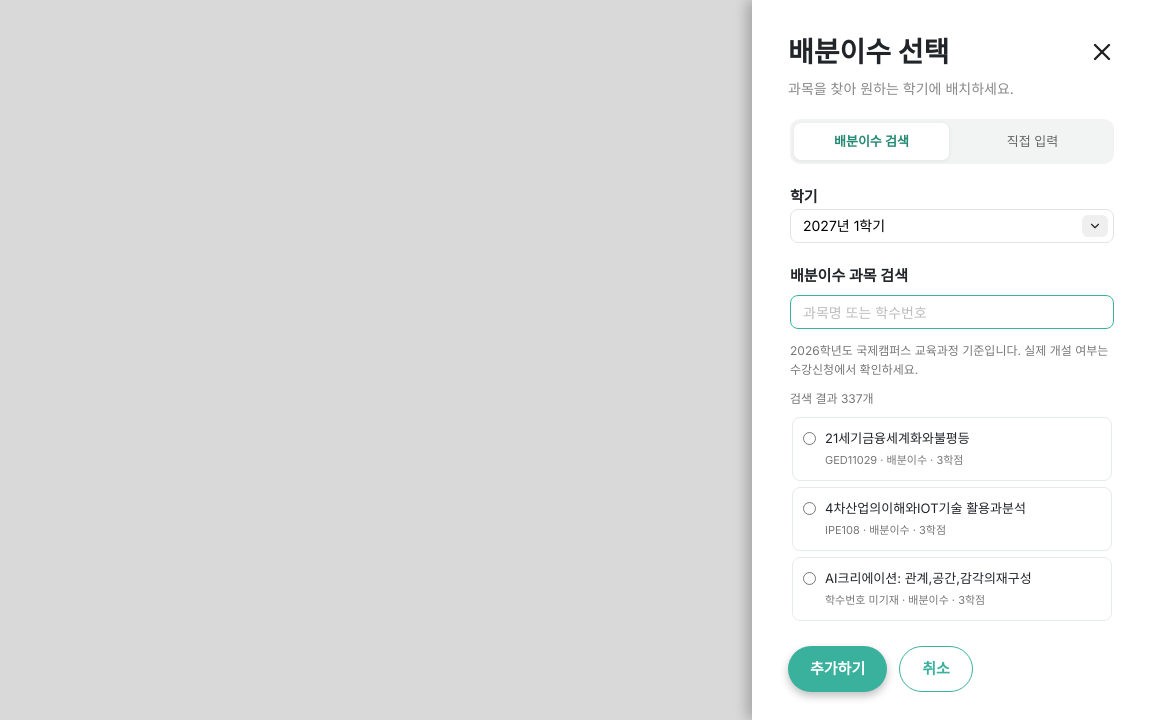
Test: 소문자 학수번호 검색과 검색어 변경 후 선택 해제를 지원한다
Type "ged1416" into the search field at (952, 312), box [790, 295, 1114, 329]
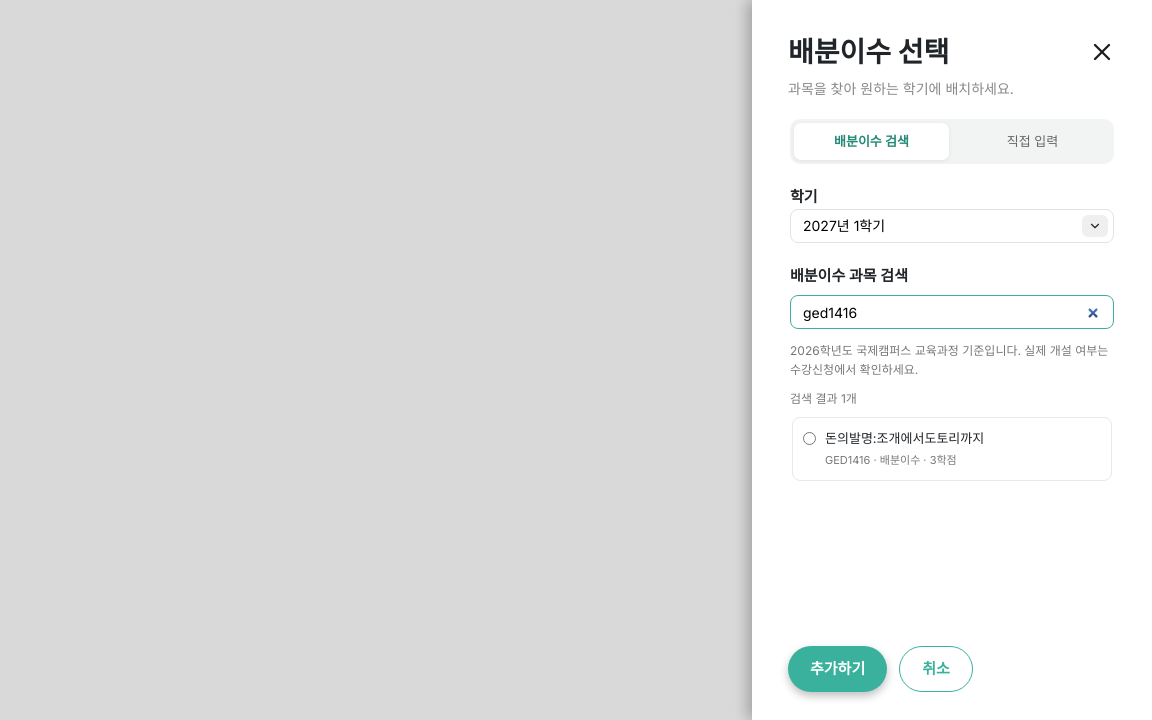
Click the radio button labelled "돈의발명:조개에서도토리까지 GED1416 · 배분이수 · 3학점" at (810, 438), box [803, 432, 816, 445]
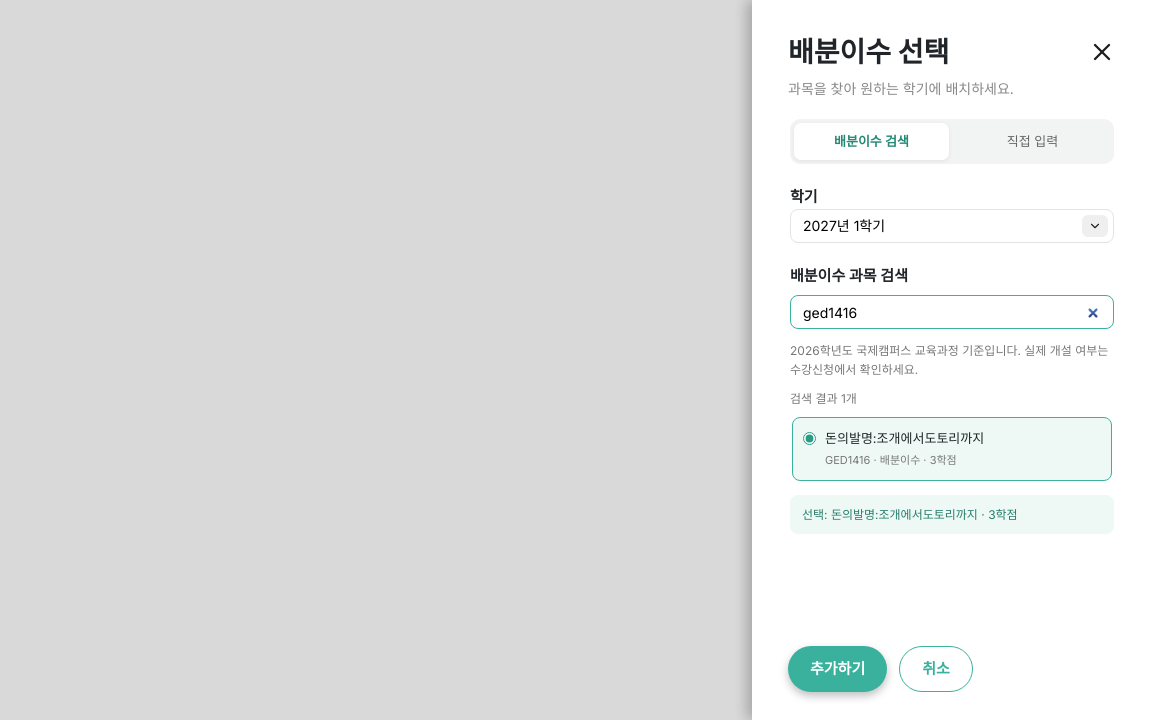
Expected: the button "추가하기" is enabled, [788, 646, 887, 692]
Replace the text in the search field with "없는과목이름" at (952, 312), box [790, 295, 1114, 329]
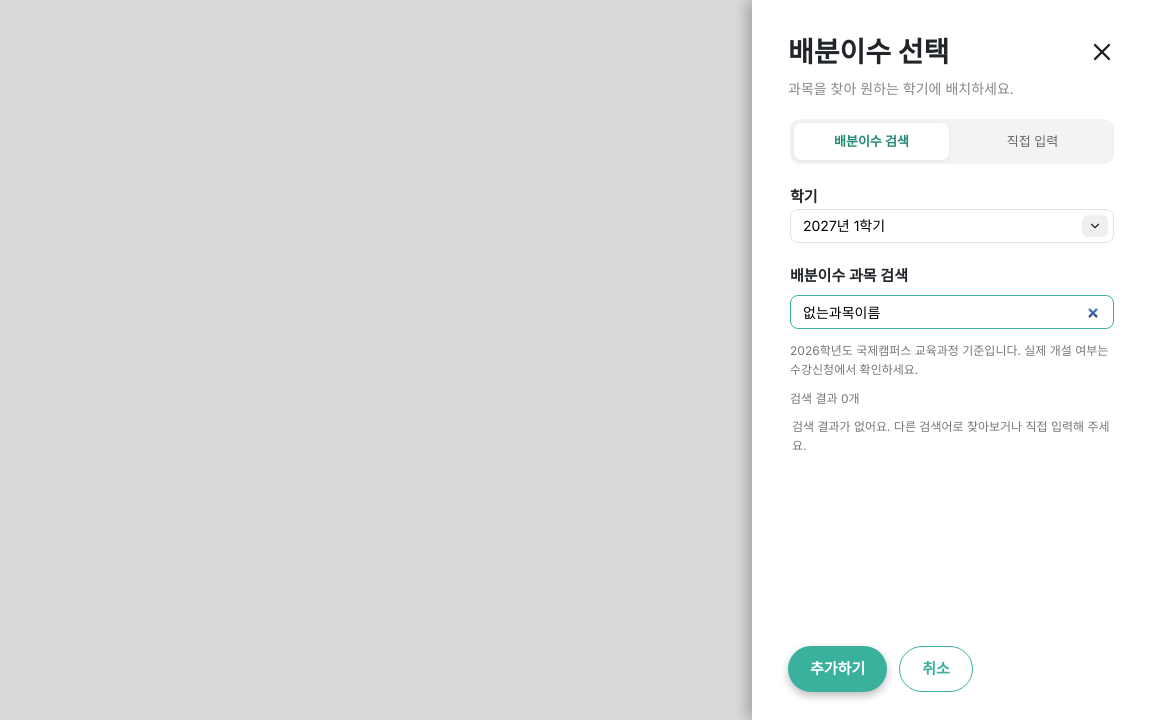
Expected: the button "추가하기" is disabled, [788, 646, 887, 692]
Expected: the radio button is gone
Expected: the text "검색 결과가 없어요. 다른 검색어로 찾아보거나 직접 입력해 주세요." is shown, [792, 417, 1112, 455]
